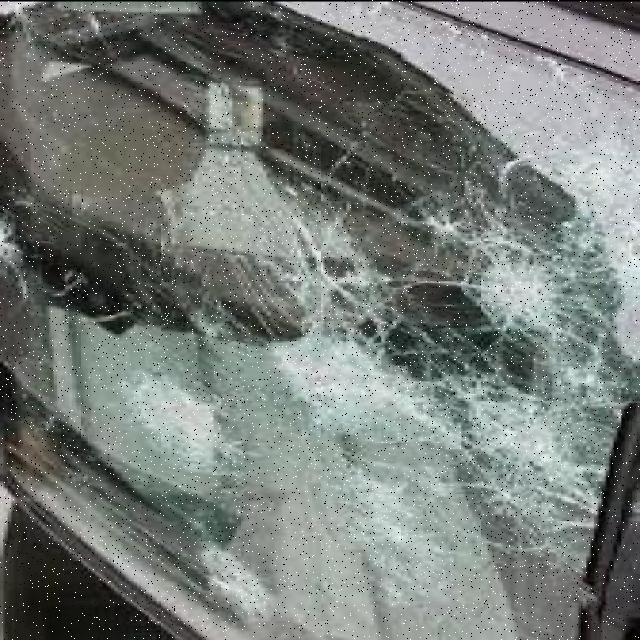damage: (223, 68, 640, 612), (122, 363, 244, 469), (181, 535, 286, 626)
